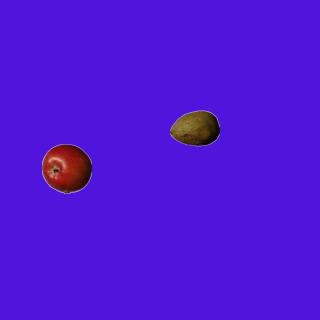Apple Braeburn: (41, 143, 91, 193)
Papaya: (169, 103, 219, 153)
